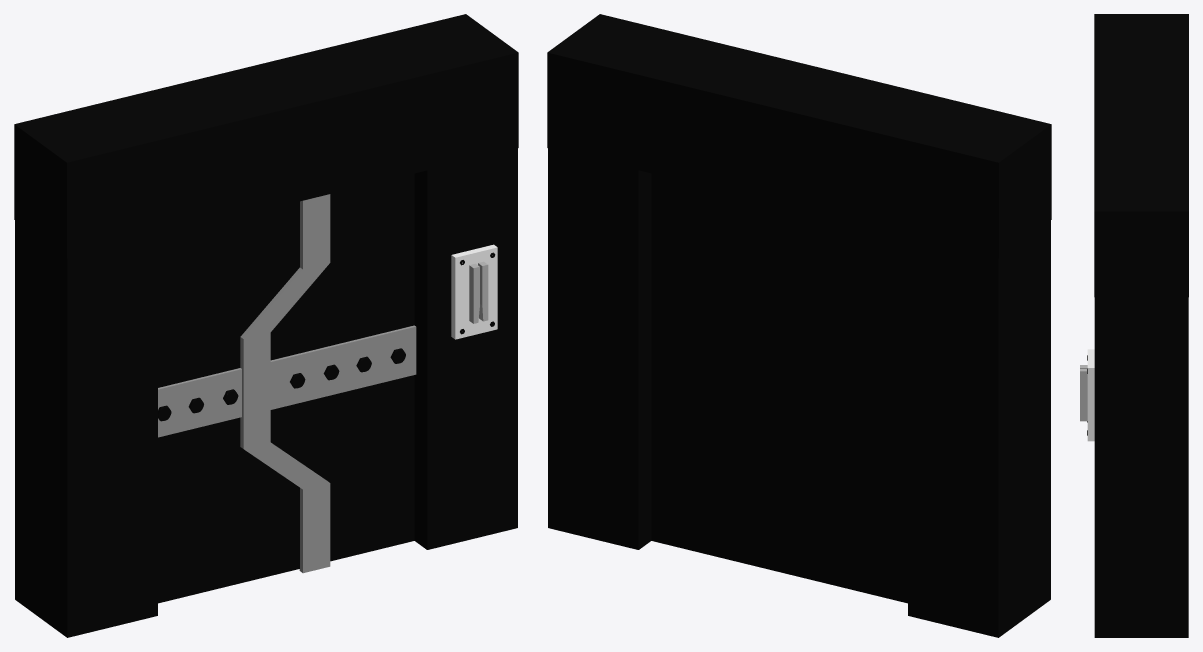
The model's file is BunkerDoor.glb.
The picture shows the model from 3 angles, left to right: view 1: azimuth 30°, elevation 25°; view 2: azimuth 150°, elevation 25°; view 3: azimuth 270°, elevation 25°; orthographic projection. The views are drawn at different scales.
Visible parts, largest first — view 1: Cube; view 2: Cube; view 3: Cube.
Part boxes in pixels (x1,y1,x2,y2): Cube: (14,14,518,637); Cube: (547,14,1051,637); Cube: (1080,14,1188,637).
Bounding box in the file's own units: 8.84 × 8.93 × 2.06.
Materials: 1 (1 with a texture image).
